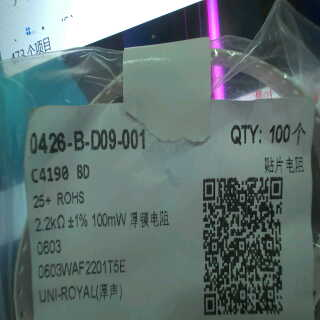2.2kR: (33, 211, 67, 237)
